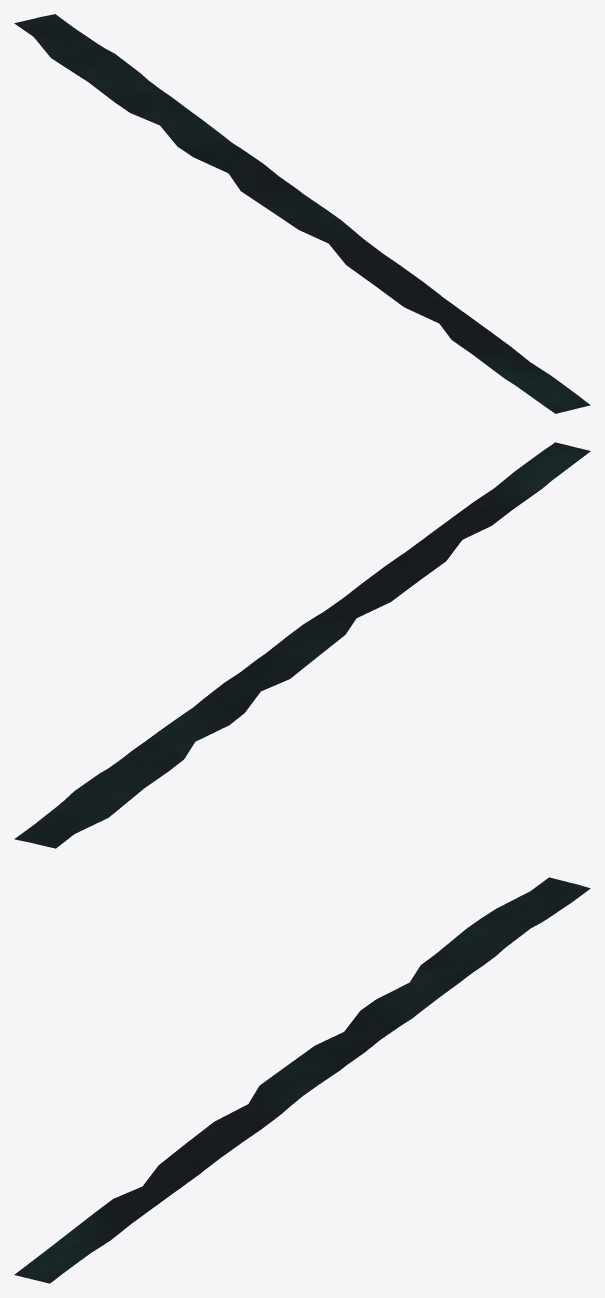
3 renders of one model, top to bottom at view 1: azimuth 30°, elevation 25°; view 2: azimuth 150°, elevation 25°; view 3: azimuth 330°, elevation 25°, orthographic.
Size of the model in its own units: 5.52 by 0.51 by 104.
1 material, 1 textured.
